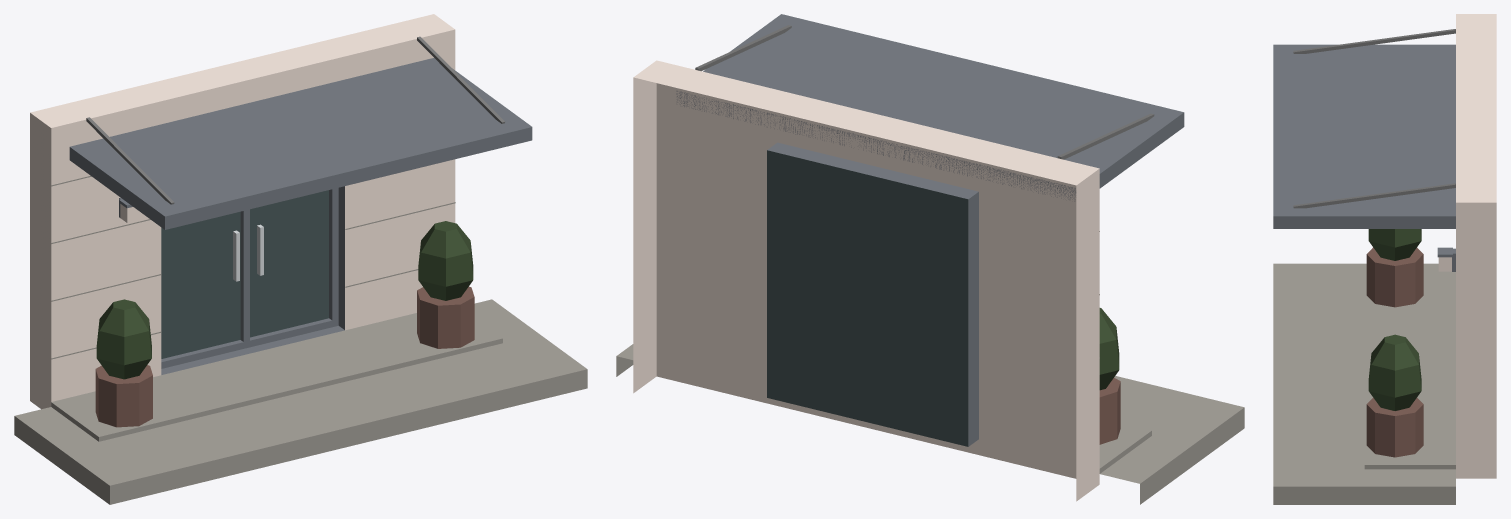
Rendered from entrance_close.fbx.
3 views of the same model, side by side, from view 1: azimuth 30°, elevation 25°; view 2: azimuth 150°, elevation 25°; view 3: azimuth 270°, elevation 25° (orthographic). The views are drawn at different scales.
Parts seen in each view (by area): view 1: a2007/500/entrance_close; view 2: a2007/500/entrance_close; view 3: a2007/500/entrance_close.
Part boxes in pixels (box(x1,y1,x2,y2)): a2007/500/entrance_close: box(14, 14, 587, 504); a2007/500/entrance_close: box(616, 14, 1244, 504); a2007/500/entrance_close: box(1273, 14, 1496, 504).
Bounding box in the file's own units: 5.2 × 3.12 × 2.2.
